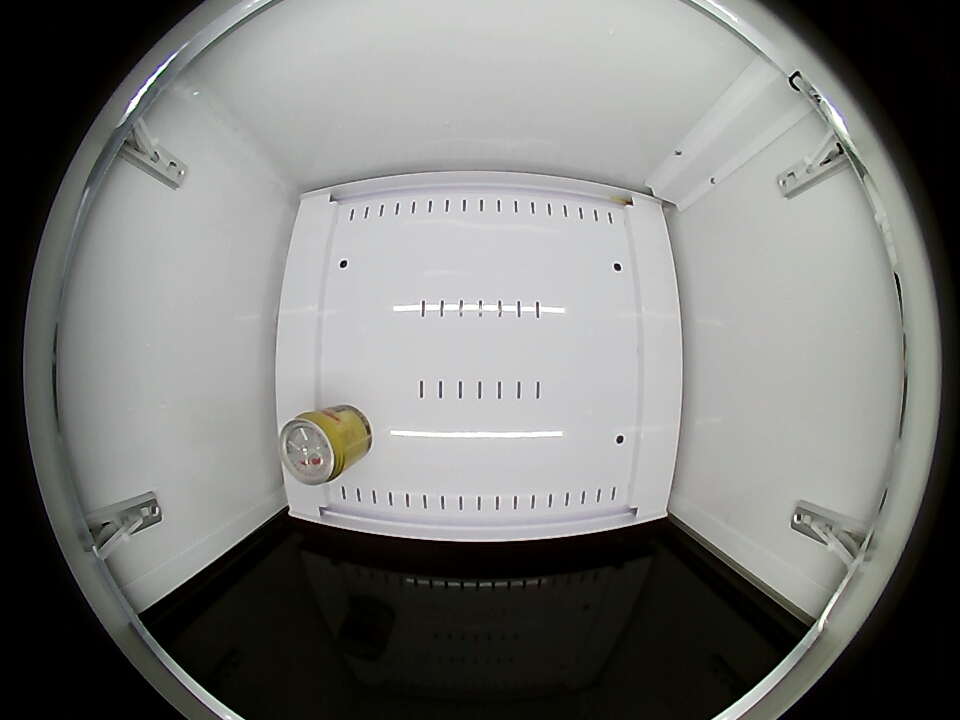hongniu2: (280, 410, 354, 486)
